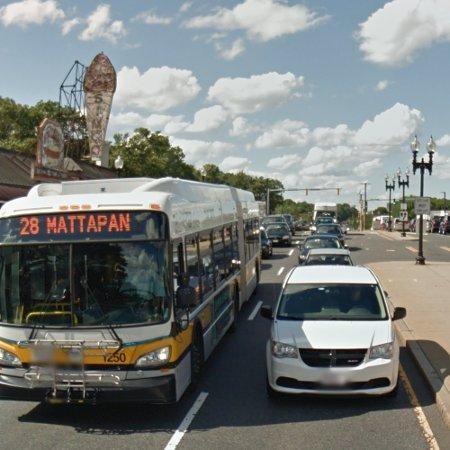buses: (0, 178, 261, 404)
